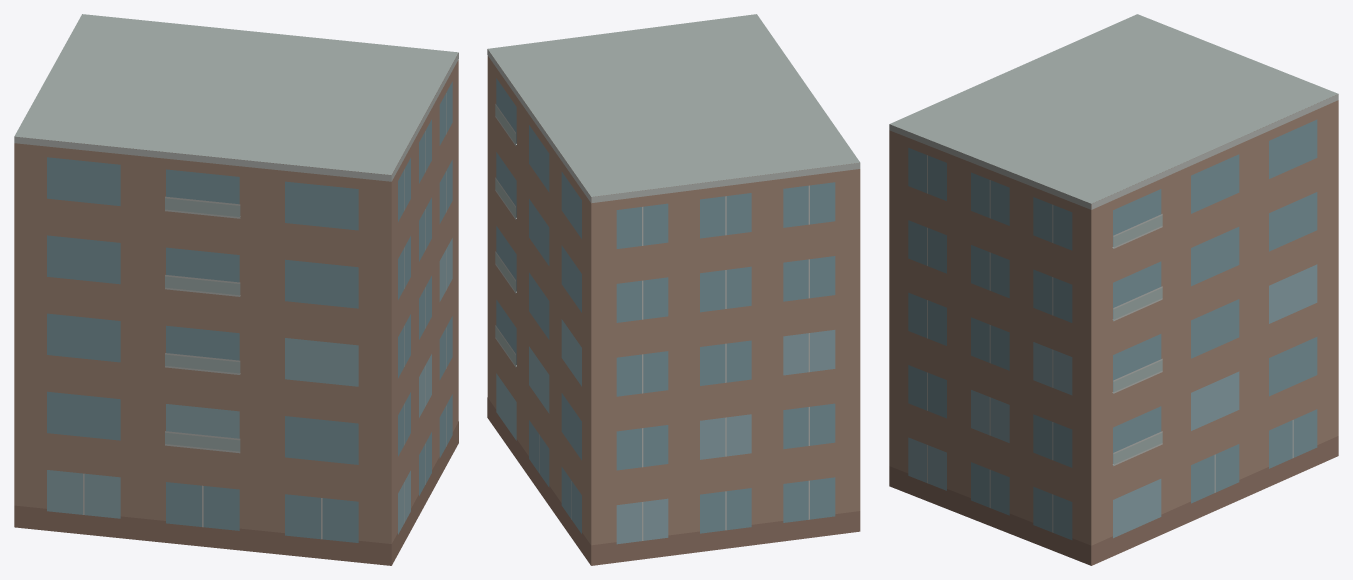
File: survey-upis-32890845.glb
3 renders of one model, left to right at view 1: azimuth 30°, elevation 25°; view 2: azimuth 150°, elevation 25°; view 3: azimuth 270°, elevation 25°, orthographic. The views are drawn at different scales.
Parts seen in each view (by area): view 1: survey-upis-32890845.tmp; view 2: survey-upis-32890845.tmp; view 3: survey-upis-32890845.tmp.
Boxes of the visible parts, x1=… form: survey-upis-32890845.tmp: x1=14, y1=14, x2=458, y2=565; survey-upis-32890845.tmp: x1=487, y1=14, x2=860, y2=565; survey-upis-32890845.tmp: x1=889, y1=14, x2=1338, y2=565.
Size of the model in its own units: 16.2 by 14.4 by 16.2.
